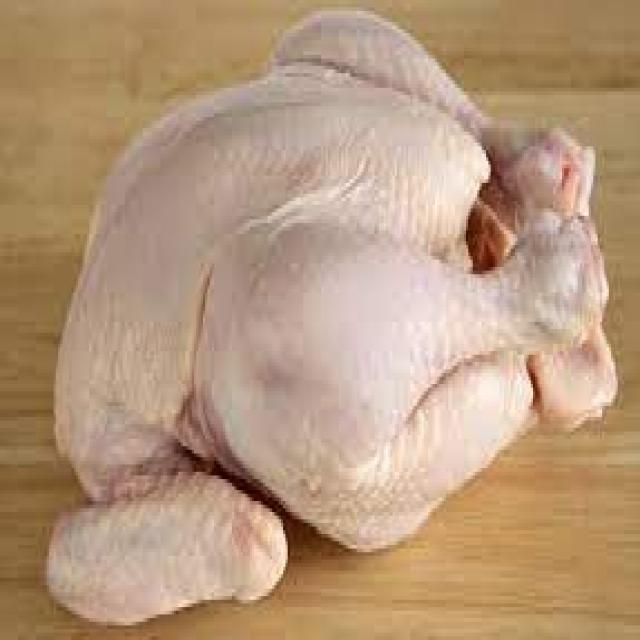chicken: (48, 11, 624, 640)
